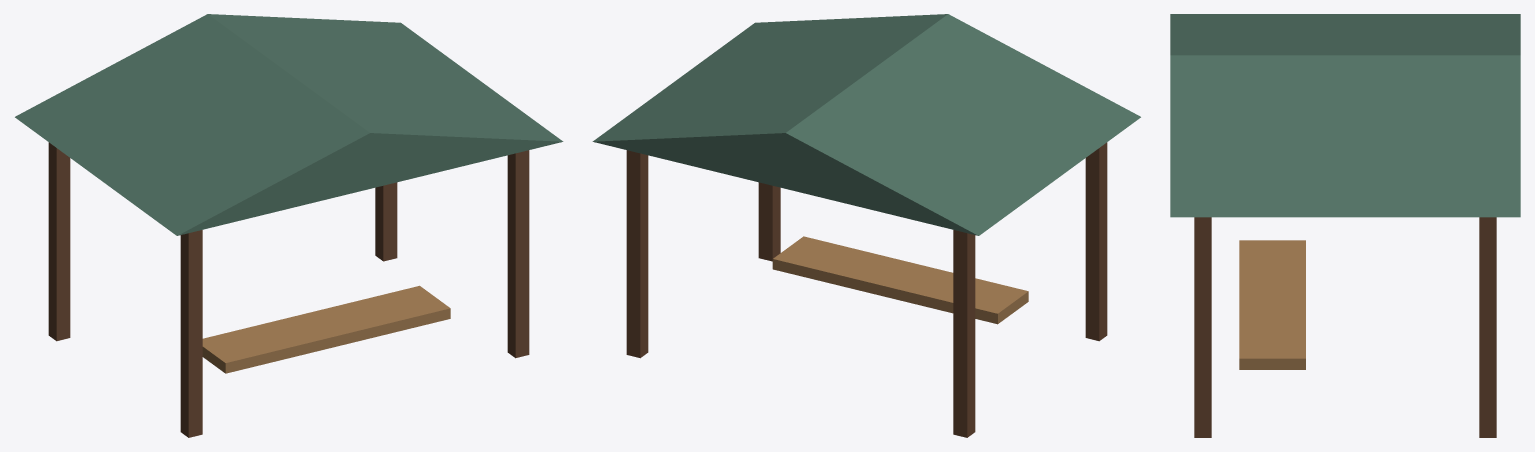
The model's file is trail-shelter.glb.
3 renders of one model, left to right at view 1: azimuth 30°, elevation 25°; view 2: azimuth 150°, elevation 25°; view 3: azimuth 270°, elevation 25°, orthographic. The views are drawn at different scales.
Visible parts, largest first — view 1: trail-shelter; view 2: trail-shelter; view 3: trail-shelter.
Part boxes in pixels (x1,y1,x2,y2): trail-shelter: (15, 14, 563, 437); trail-shelter: (592, 14, 1140, 437); trail-shelter: (1170, 14, 1520, 437).
Size of the model in its own units: 6.15 by 4.13 by 4.48.
